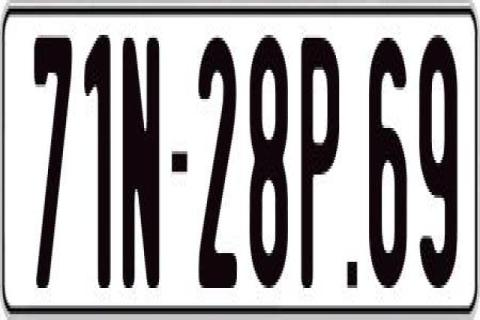0: (246, 32, 290, 296), (197, 35, 239, 299), (419, 29, 460, 294), (369, 38, 409, 297), (33, 29, 73, 282), (82, 32, 108, 300)
N: (122, 29, 162, 282)
P: (298, 29, 342, 282)
